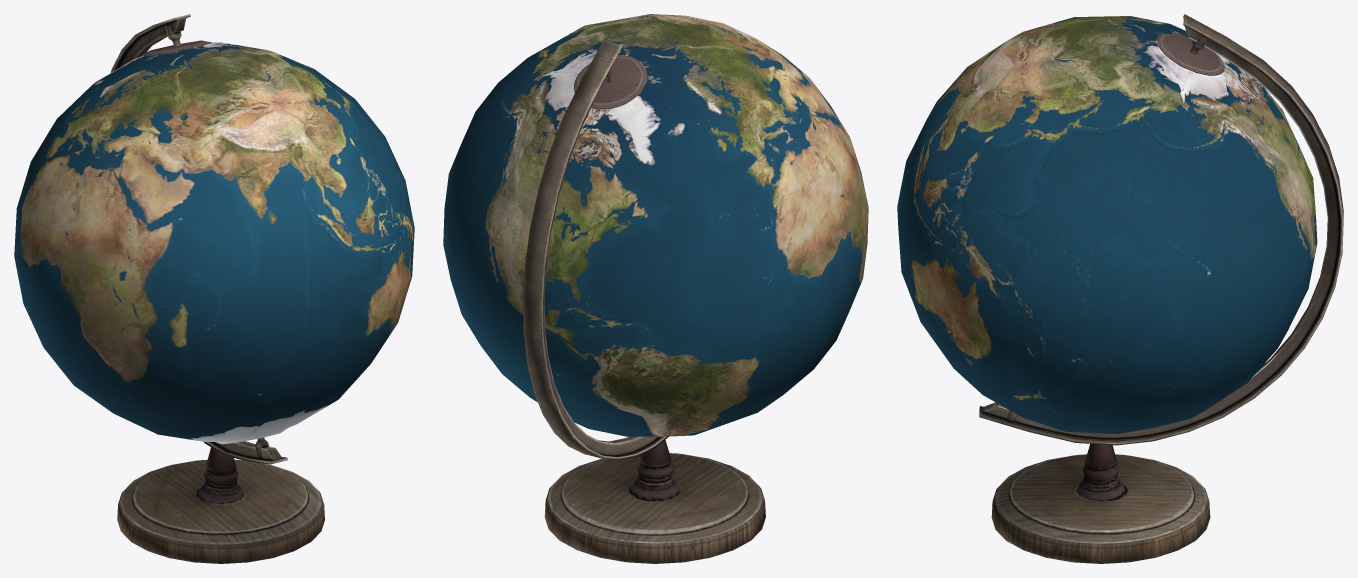
Rendered from Fixed_Globe.fbx.
3 views of the same model, side by side, from view 1: azimuth 30°, elevation 25°; view 2: azimuth 150°, elevation 25°; view 3: azimuth 270°, elevation 25° (orthographic). The views are drawn at different scales.
Visible parts, largest first — view 1: polySurface1, polySurface2; view 2: polySurface1, polySurface2; view 3: polySurface1, polySurface2.
Part boxes in pixels (x1,y1,x2,y2): polySurface1: (14,40,414,444); polySurface2: (110,14,324,563); polySurface1: (443,14,868,436); polySurface2: (523,40,765,563); polySurface1: (897,16,1317,433); polySurface2: (979,14,1343,563).
Size of the model in its own units: 26.21 by 34.4 by 27.87.
